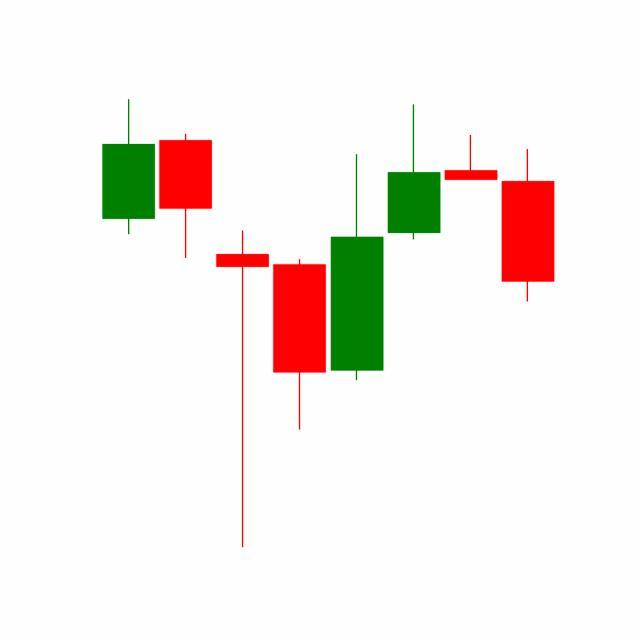Hikkake Pattern: (270, 102, 555, 435)
